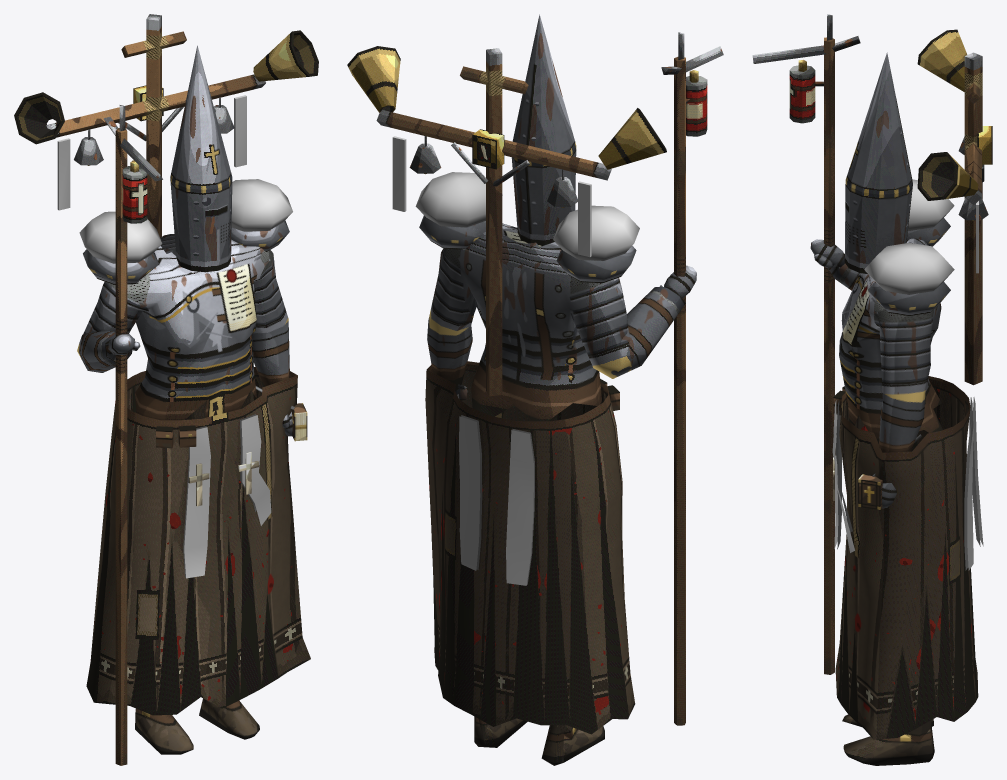
File: war-prophet.glb
3 renders of one model, left to right at view 1: azimuth 30°, elevation 25°; view 2: azimuth 150°, elevation 25°; view 3: azimuth 270°, elevation 25°, orthographic. The views are drawn at different scales.
Visible parts, largest first — view 1: Robe, Body, Back, Accent, Weapon, Helmet, Chest, Hip; view 2: Robe, Body, Back, Accent, Weapon, Helmet, Chest; view 3: Robe, Body, Back, Helmet, Weapon, Accent, Chest, Hip.
Part boxes in pixels (x1=…): Robe: x1=86, y1=367, x2=310, y2=715; Body: x1=77, y1=234, x2=292, y2=754; Back: x1=14, y1=14, x2=318, y2=237; Accent: x1=57, y1=95, x2=292, y2=578; Weapon: x1=104, y1=105, x2=162, y2=765; Helmet: x1=170, y1=45, x2=232, y2=272; Chest: x1=83, y1=220, x2=289, y2=284; Hip: x1=156, y1=386, x2=307, y2=506; Robe: x1=425, y1=361, x2=635, y2=734; Body: x1=427, y1=223, x2=696, y2=765; Back: x1=347, y1=46, x2=666, y2=396; Accent: x1=392, y1=136, x2=639, y2=585; Weapon: x1=661, y1=32, x2=723, y2=725; Helmet: x1=511, y1=14, x2=576, y2=245; Chest: x1=419, y1=215, x2=636, y2=282; Robe: x1=835, y1=376, x2=978, y2=739; Body: x1=810, y1=238, x2=942, y2=765; Back: x1=917, y1=29, x2=992, y2=385; Helmet: x1=844, y1=52, x2=912, y2=273; Weapon: x1=752, y1=14, x2=860, y2=674; Accent: x1=832, y1=179, x2=983, y2=570; Chest: x1=868, y1=218, x2=950, y2=315; Hip: x1=833, y1=386, x2=921, y2=509.
Size of the model in its own units: 0.5437 by 1.2 by 0.3768.
Materials: 8 (7 with a texture image).
